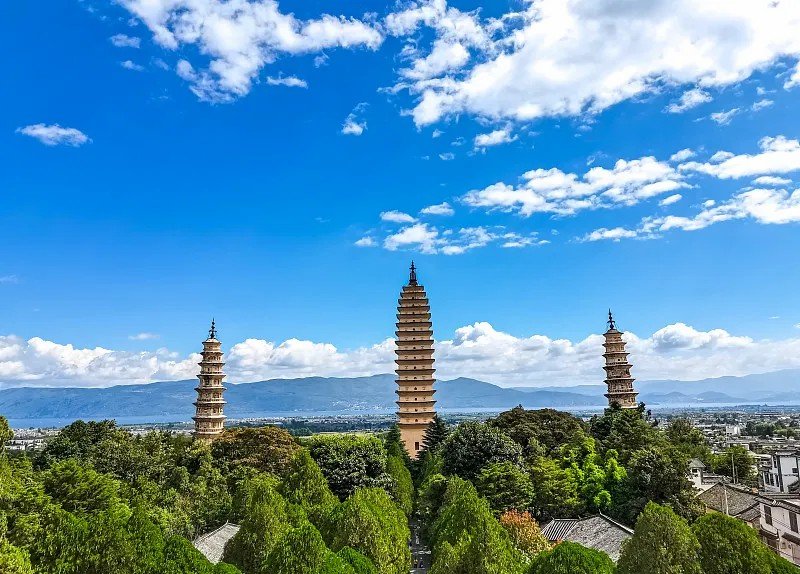ThreePagoda: (395, 260, 438, 451)
